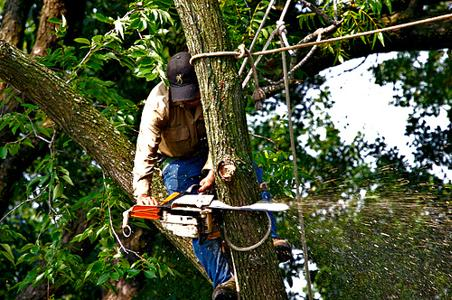person: (128, 52, 294, 300)
